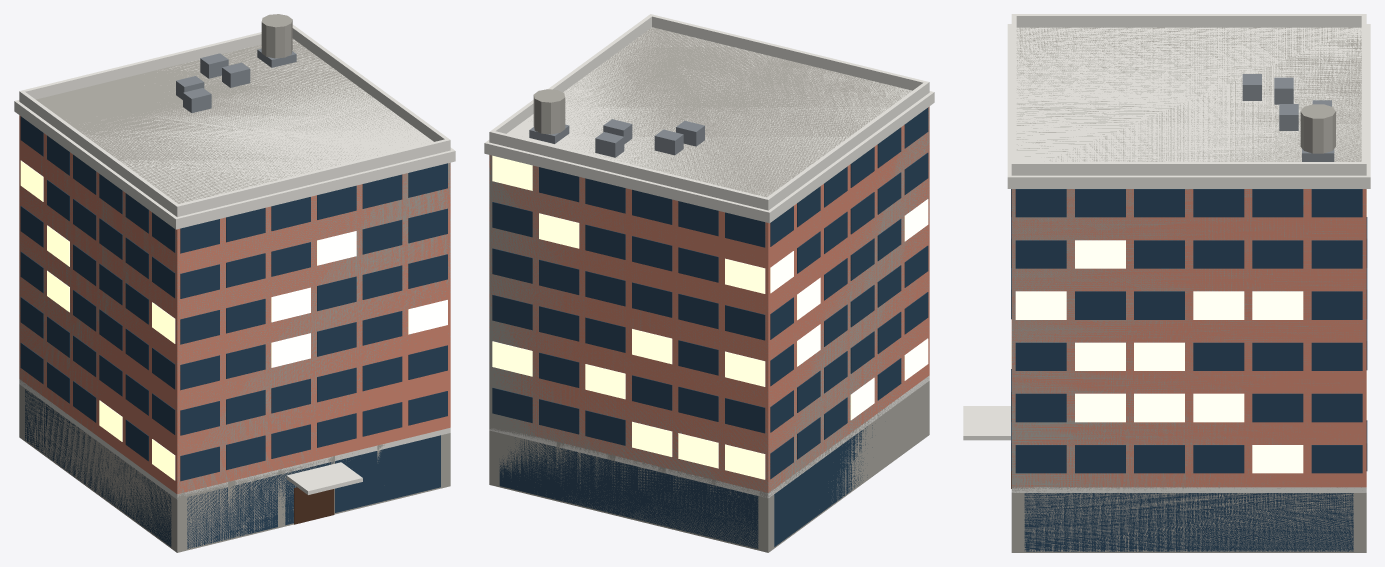
The model's file is BLD_Office_B.fbx.
The picture shows the model from 3 angles, left to right: view 1: azimuth 30°, elevation 25°; view 2: azimuth 150°, elevation 25°; view 3: azimuth 270°, elevation 25°; orthographic projection. The views are drawn at different scales.
Parts seen in each view (by area): view 1: BLD_Office_B__BODY, BLD_Office_B__COL_Main; view 2: BLD_Office_B__BODY, BLD_Office_B__COL_Main; view 3: BLD_Office_B__BODY, BLD_Office_B__COL_Main.
Boxes of the visible parts, x1,y1,x2,y2 form: BLD_Office_B__BODY: [14, 14, 455, 551]; BLD_Office_B__COL_Main: [19, 38, 450, 552]; BLD_Office_B__BODY: [484, 14, 934, 548]; BLD_Office_B__COL_Main: [489, 27, 929, 552]; BLD_Office_B__BODY: [963, 14, 1370, 551]; BLD_Office_B__COL_Main: [1011, 27, 1366, 552].
Bounding box in the file's own units: 22.5 × 28.8 × 25.25.
